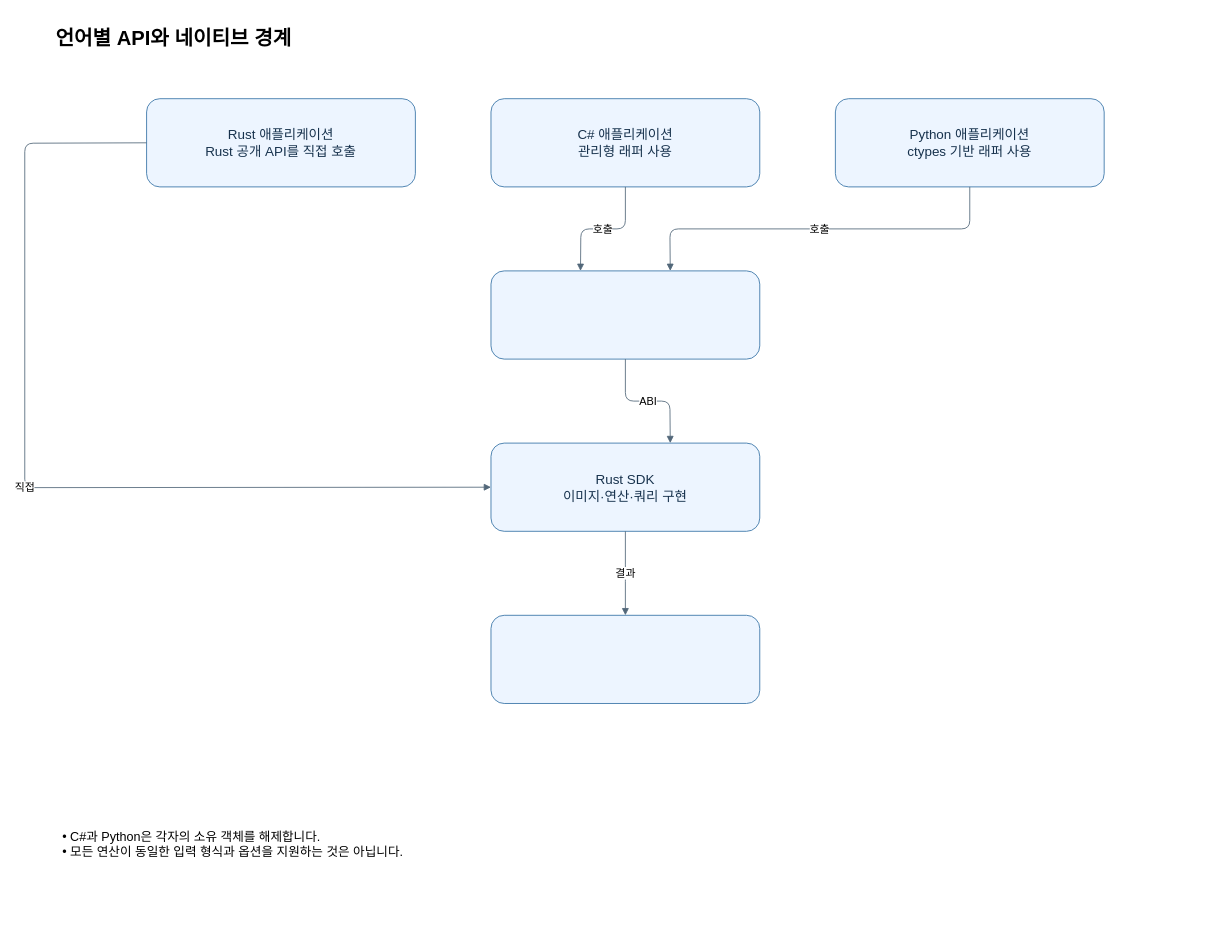
Image size: 1211x932. Some labels were removed from this diagram. Each missing label, with the box of its shape:
C ABI / FFI 경계 핸들과 오류를 언어 간 전달: (490, 270, 760, 359)
각 언어의 수명 관리 반환 객체의 소유 계약 확인: (490, 614, 760, 704)
